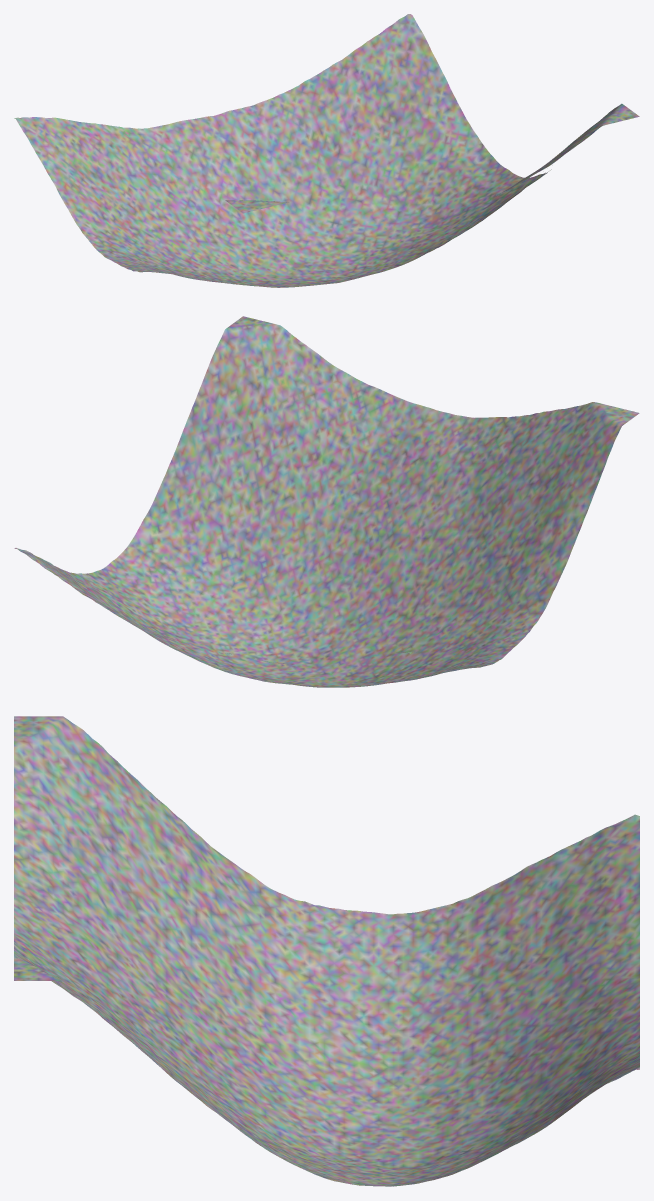
File: dsm_2085b195a5_mesh.glb
The picture shows the model from 3 angles, top to bottom: view 1: azimuth 30°, elevation 25°; view 2: azimuth 150°, elevation 25°; view 3: azimuth 270°, elevation 25°; orthographic projection. The views are drawn at different scales.
Parts seen in each view (by area): view 1: geometry_0; view 2: geometry_0; view 3: geometry_0.
Part boxes in pixels (x1=…): geometry_0: x1=14, y1=14, x2=639, y2=287; geometry_0: x1=14, y1=316, x2=639, y2=687; geometry_0: x1=14, y1=716, x2=639, y2=1186.
Size of the model in its own units: 2 by 1 by 2.
